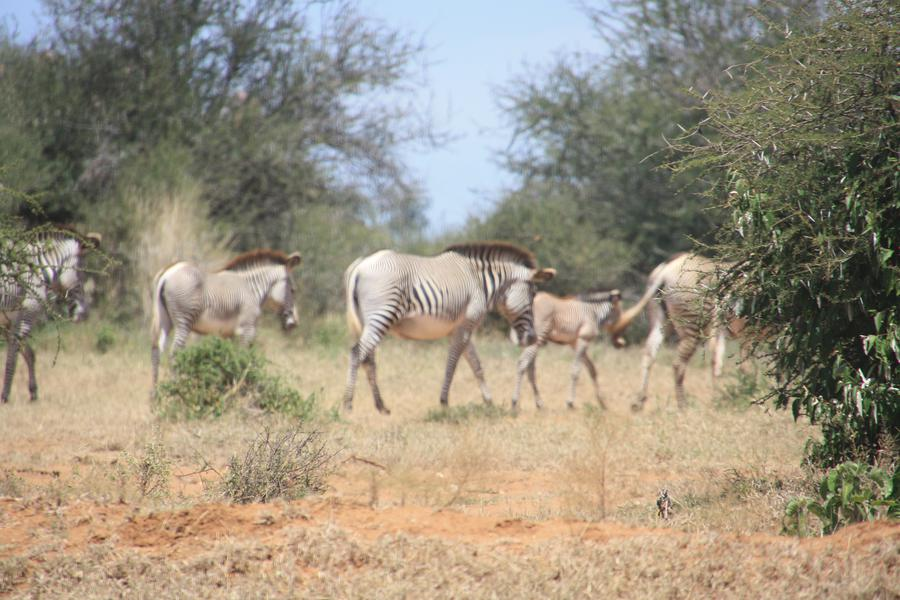zebra_grevys: (353, 250, 483, 334)
